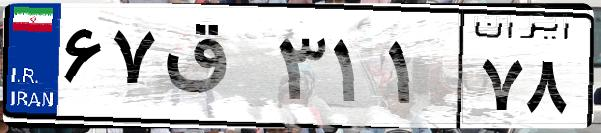1: (385, 28, 445, 110), (330, 28, 385, 110)
3: (270, 28, 330, 110)
6: (57, 26, 110, 100)
7: (475, 38, 525, 113), (110, 28, 158, 98)
8: (525, 38, 570, 115)
ق: (158, 20, 270, 120)
